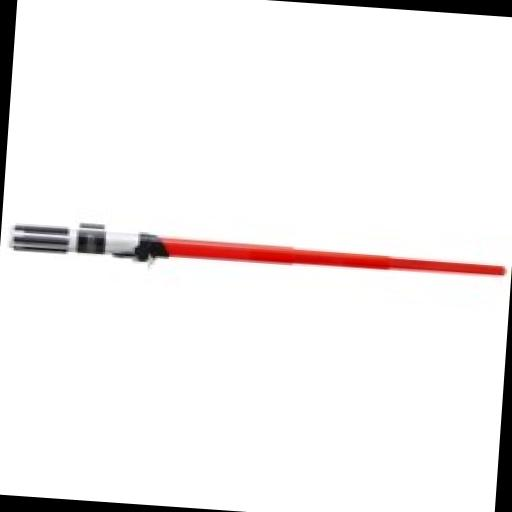sith saber: (8, 218, 506, 284)
